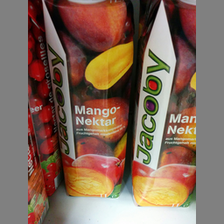juice: (41, 1, 130, 200), (130, 1, 195, 207)
